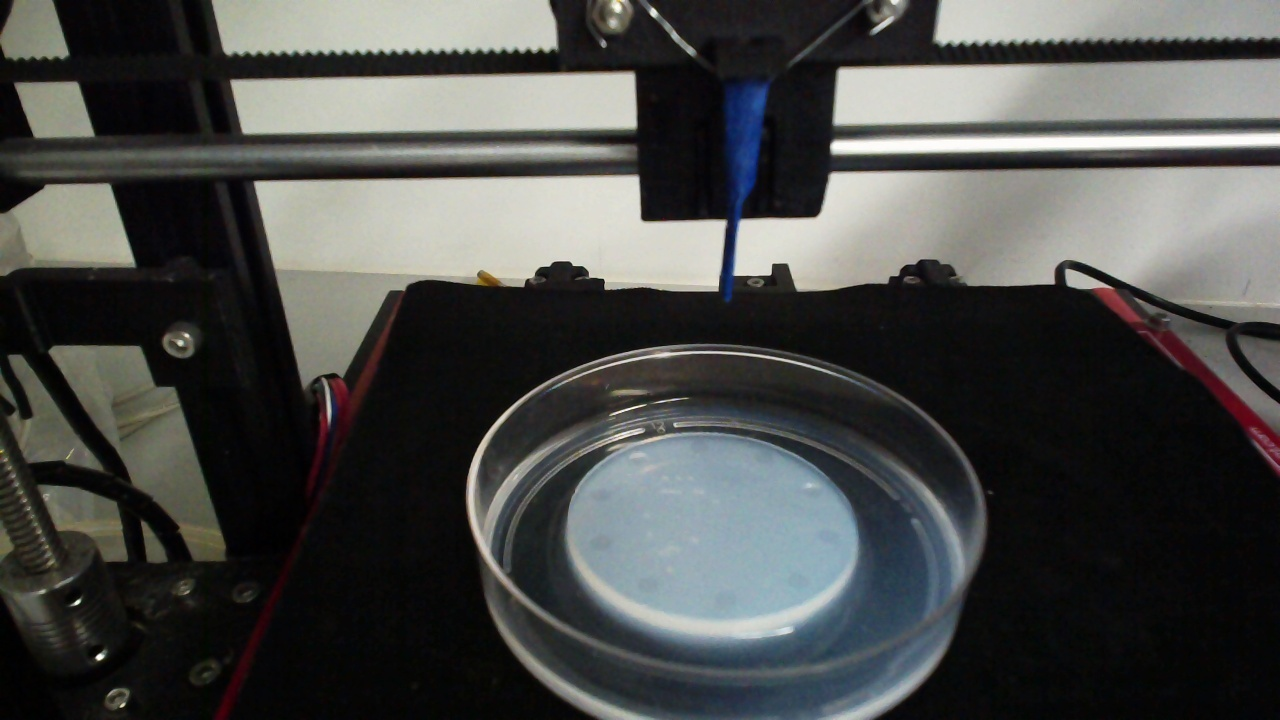groove: (784, 570, 811, 592), (713, 591, 738, 612), (636, 574, 659, 596), (815, 526, 841, 545), (590, 533, 614, 553), (627, 449, 650, 469), (588, 485, 611, 504), (799, 481, 823, 499), (752, 449, 775, 466), (688, 438, 709, 455)
needle: (719, 86, 769, 304)
